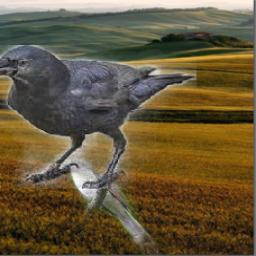Crow: (0, 46, 198, 190)
Cuckoo: (55, 159, 159, 256)
